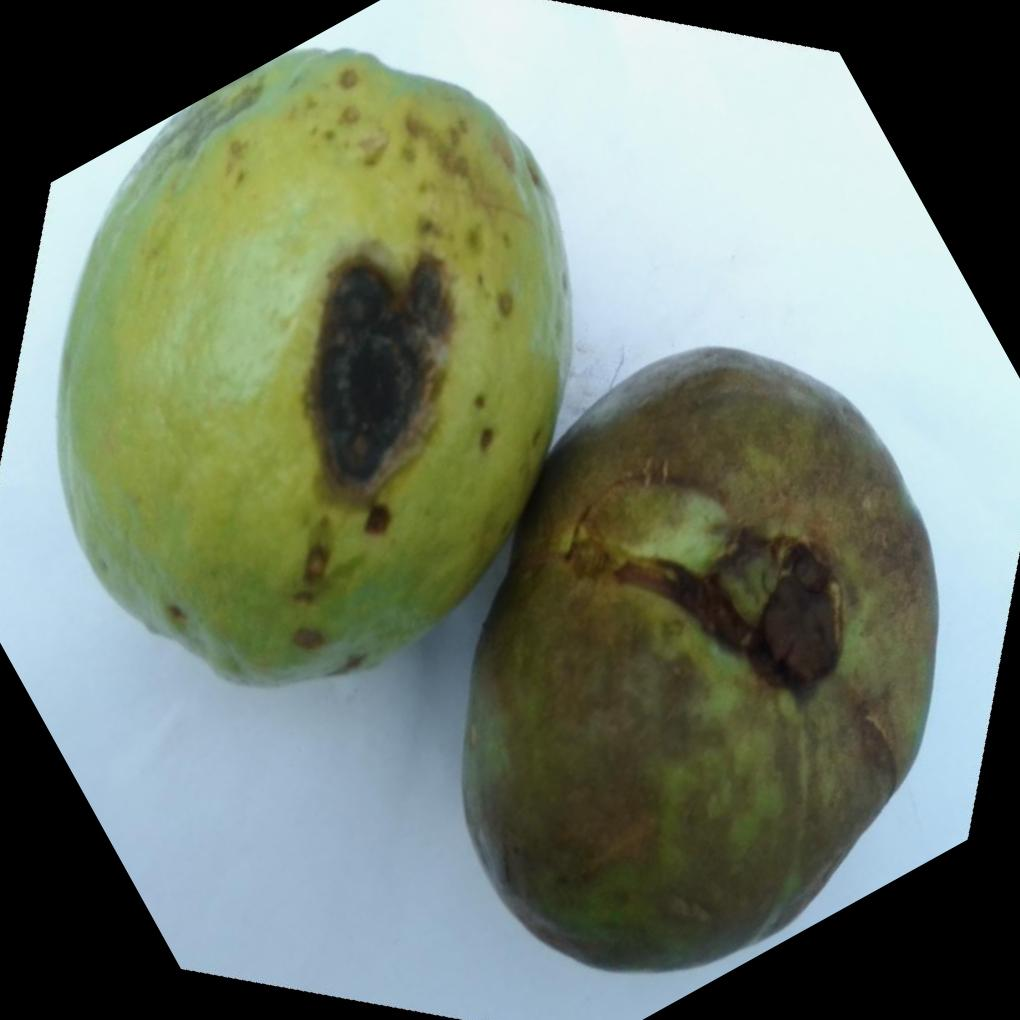FreshOrange: (56, 43, 943, 974)
